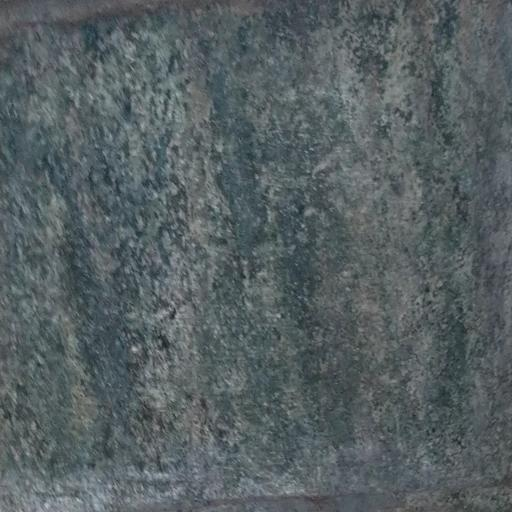algae: (6, 1, 512, 512)
